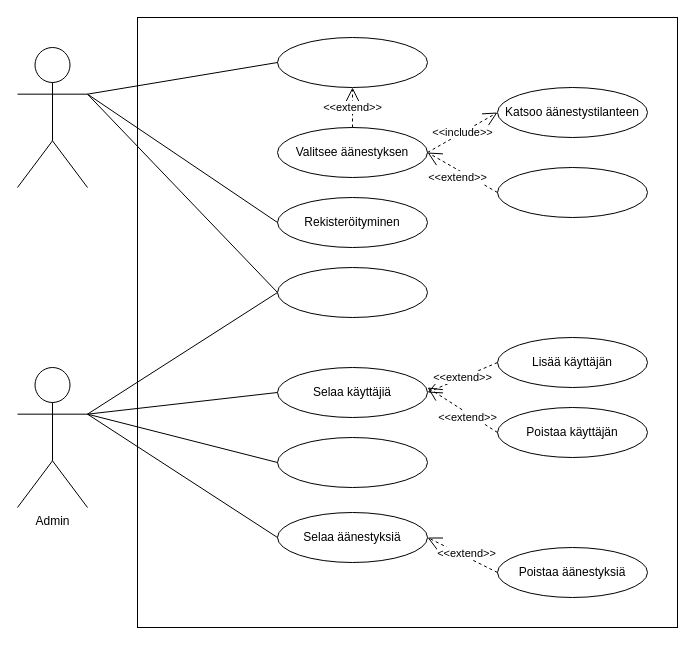
Image size: 695x645. Some labels were removed from this diagram. The shapes that lost their labels are listed below. From the top down, each one's box as (x1, y1, x2, y2) in pixels, then its label:
(276, 36, 428, 88): Selailee äänestyksiä
(16, 46, 88, 188): User
(496, 166, 648, 218): Äänestää valitsemassa äänestyksessä
(276, 266, 428, 318): Kirjautuminen
(276, 436, 428, 488): Luo uusia äänestyksiä
